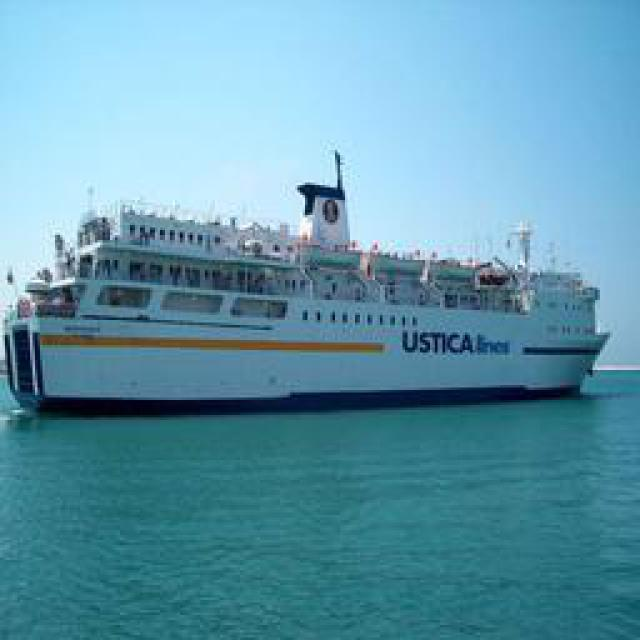Ship: (8, 145, 613, 408)
